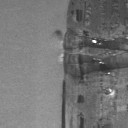slag inclusion: (53, 0, 128, 128)
